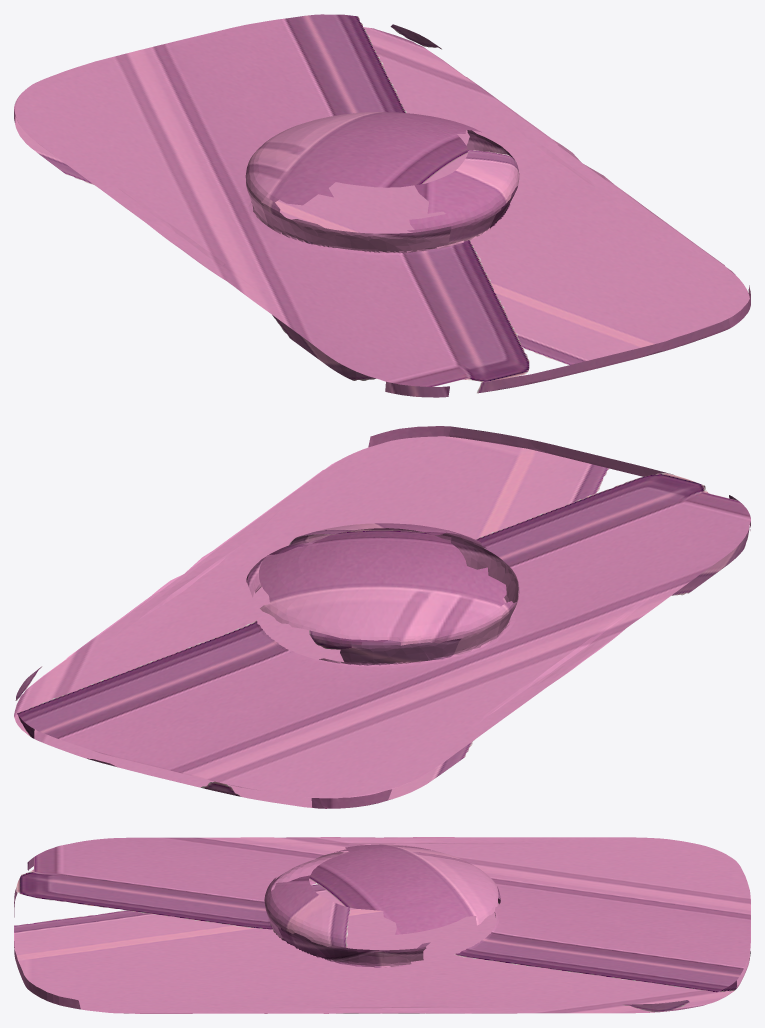
3 renders of one model, top to bottom at view 1: azimuth 30°, elevation 25°; view 2: azimuth 150°, elevation 25°; view 3: azimuth 270°, elevation 25°, orthographic. The views are drawn at different scales.
Visible parts, largest first — view 1: world; view 2: world; view 3: world.
Part boxes in pixels (x1,y1,x2,y2): world: [14, 14, 750, 397]; world: [14, 426, 750, 808]; world: [14, 837, 750, 1013].
Size of the model in its own units: 54.09 by 8.85 by 100.
